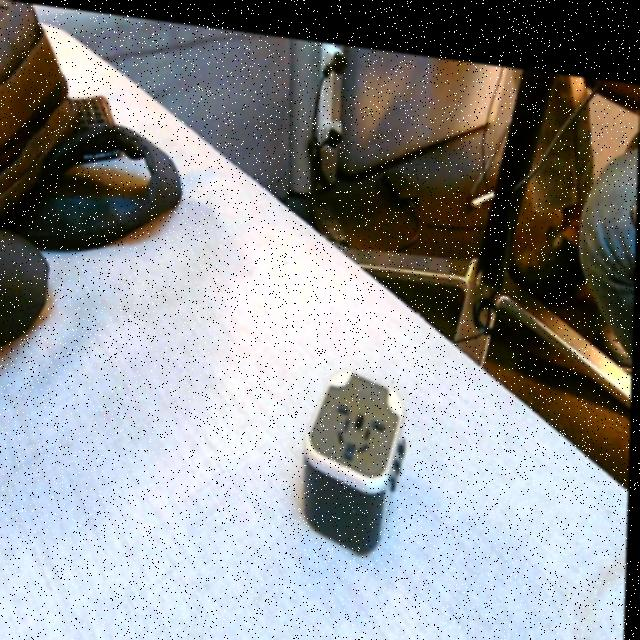adapter: (303, 355, 410, 549)
